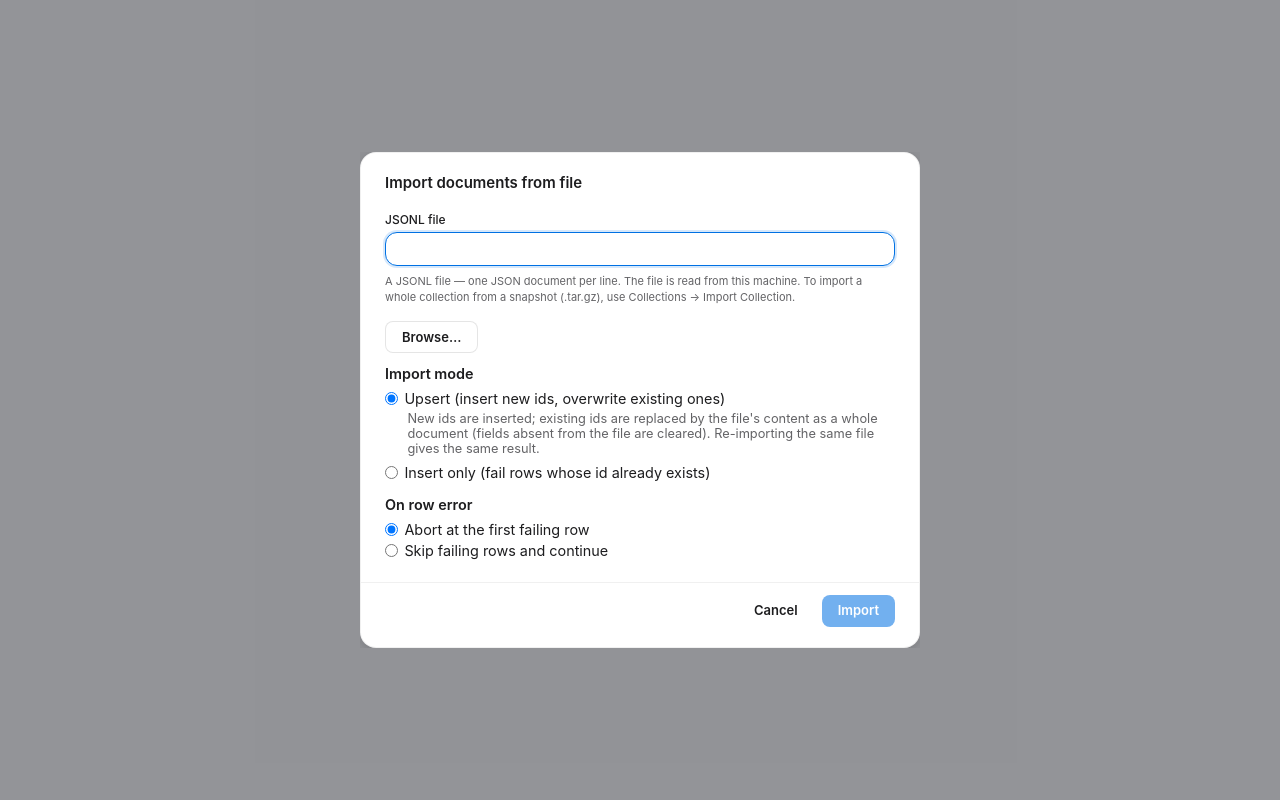
Test: ImportDocumentsDialog › submits a replace-mode import and shows the report
The image size is (1280, 800).
Type "/data/demo.jsonl" into the field with test id "zv-import-path". click: (640, 250)
box: 385,232 -> 895,266
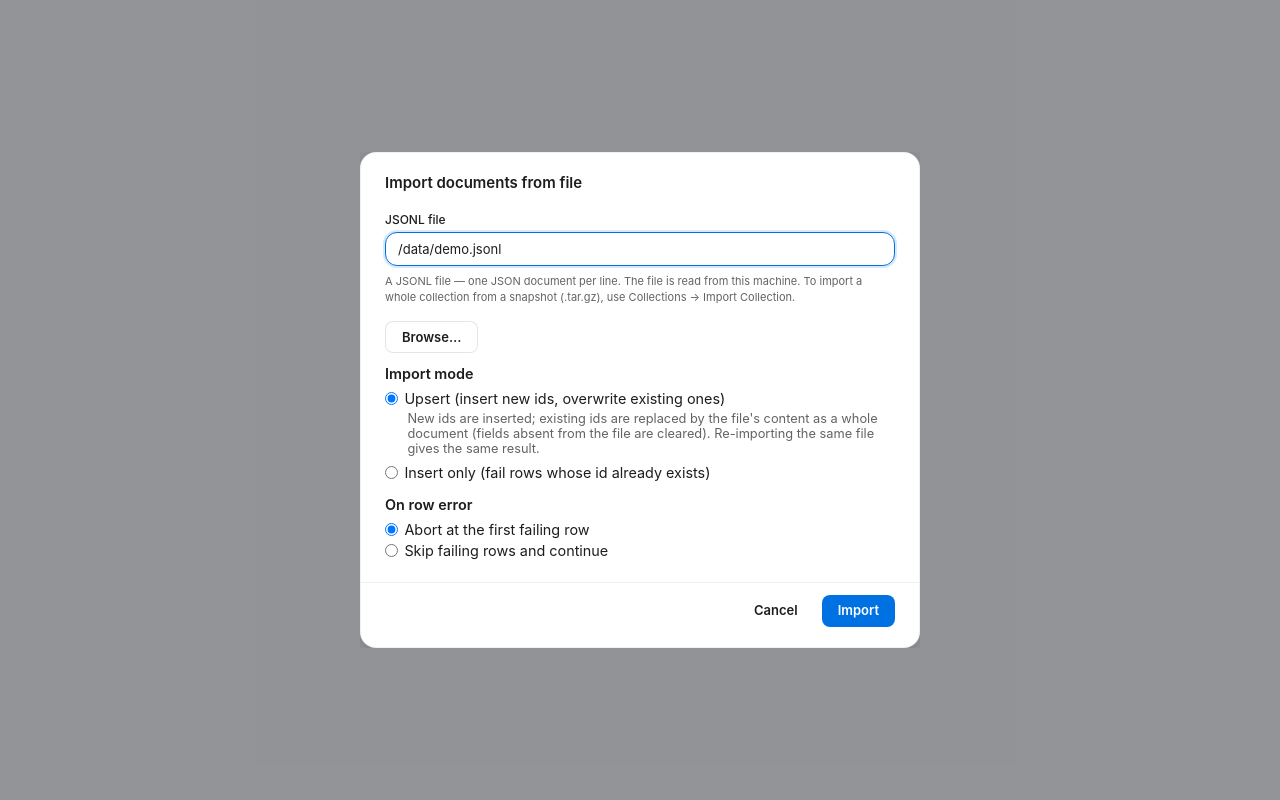
Click the button with test id "zv-import-submit". click: (858, 611)
box: 822,595 -> 895,627
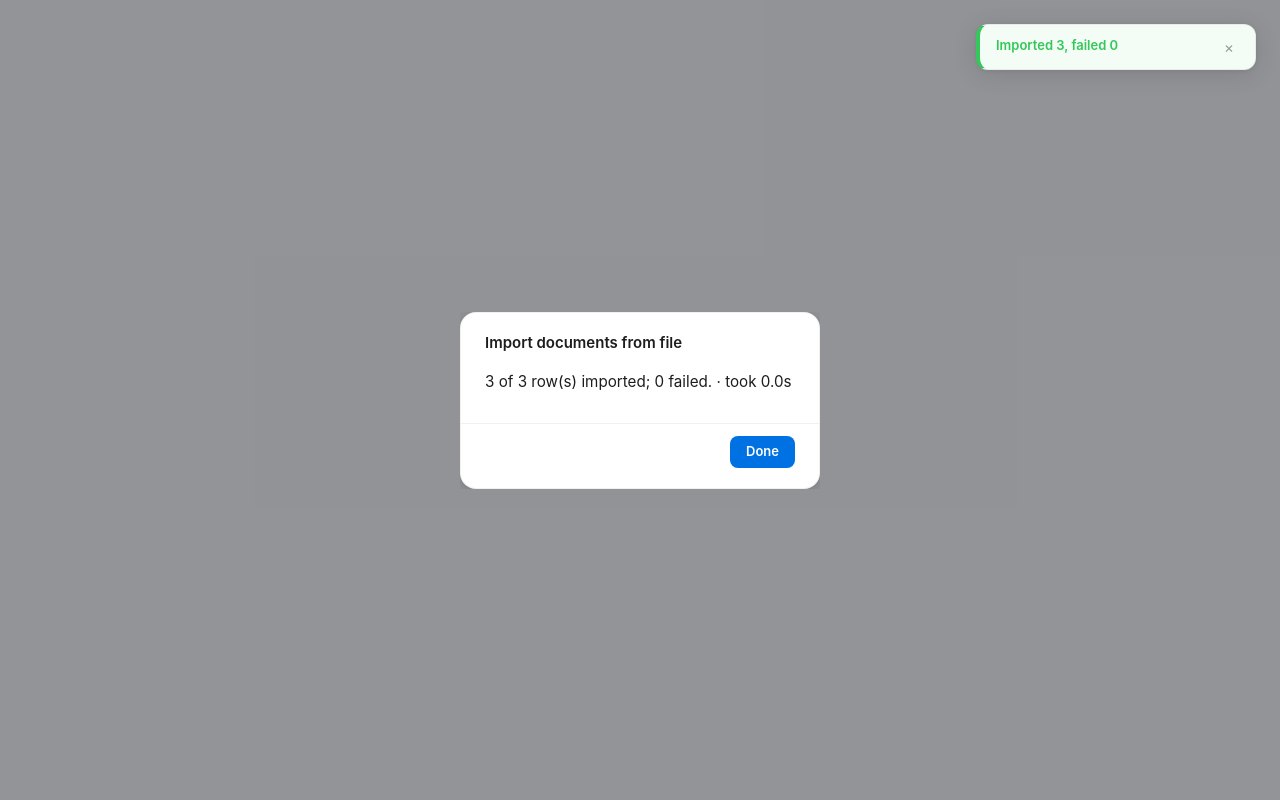
Expected: the element with test id "zv-import-report" is shown, 485,372 -> 795,390
